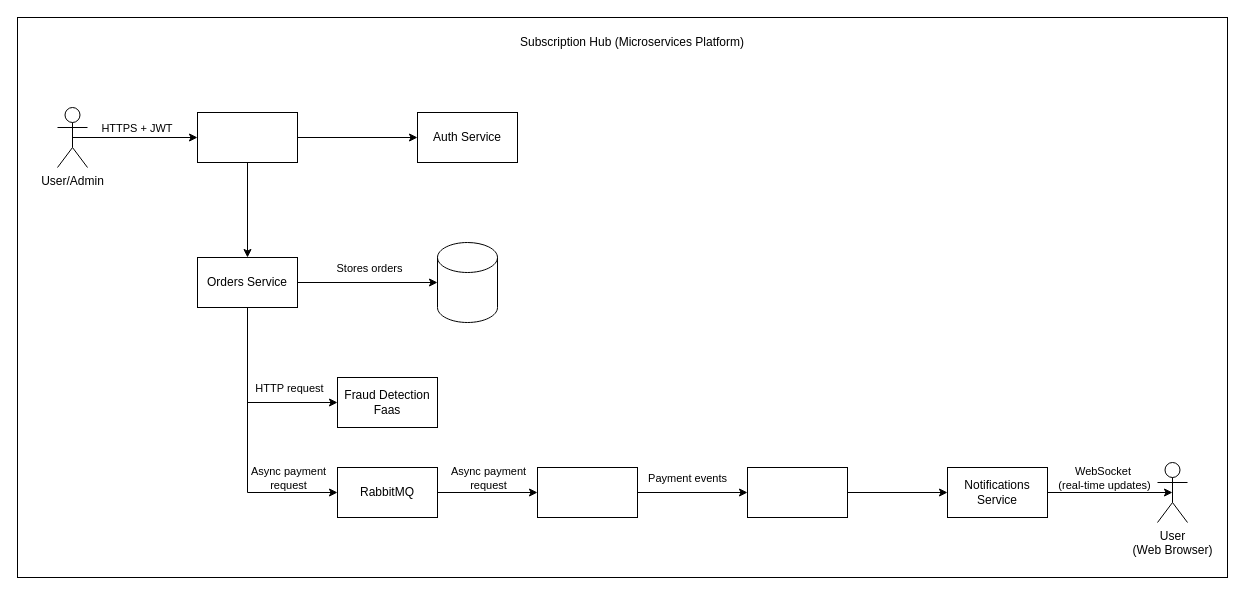
Some shapes in this 1245 by 595 pixel diagram are drawn without their labels. Here are the shapes that lost their labels. From the top down, the box of each, then its label:
(196, 112, 298, 162): API Gateway
(436, 242, 498, 322): MongoDB
(536, 466, 638, 518): Payments Service
(746, 466, 848, 518): Kafka
